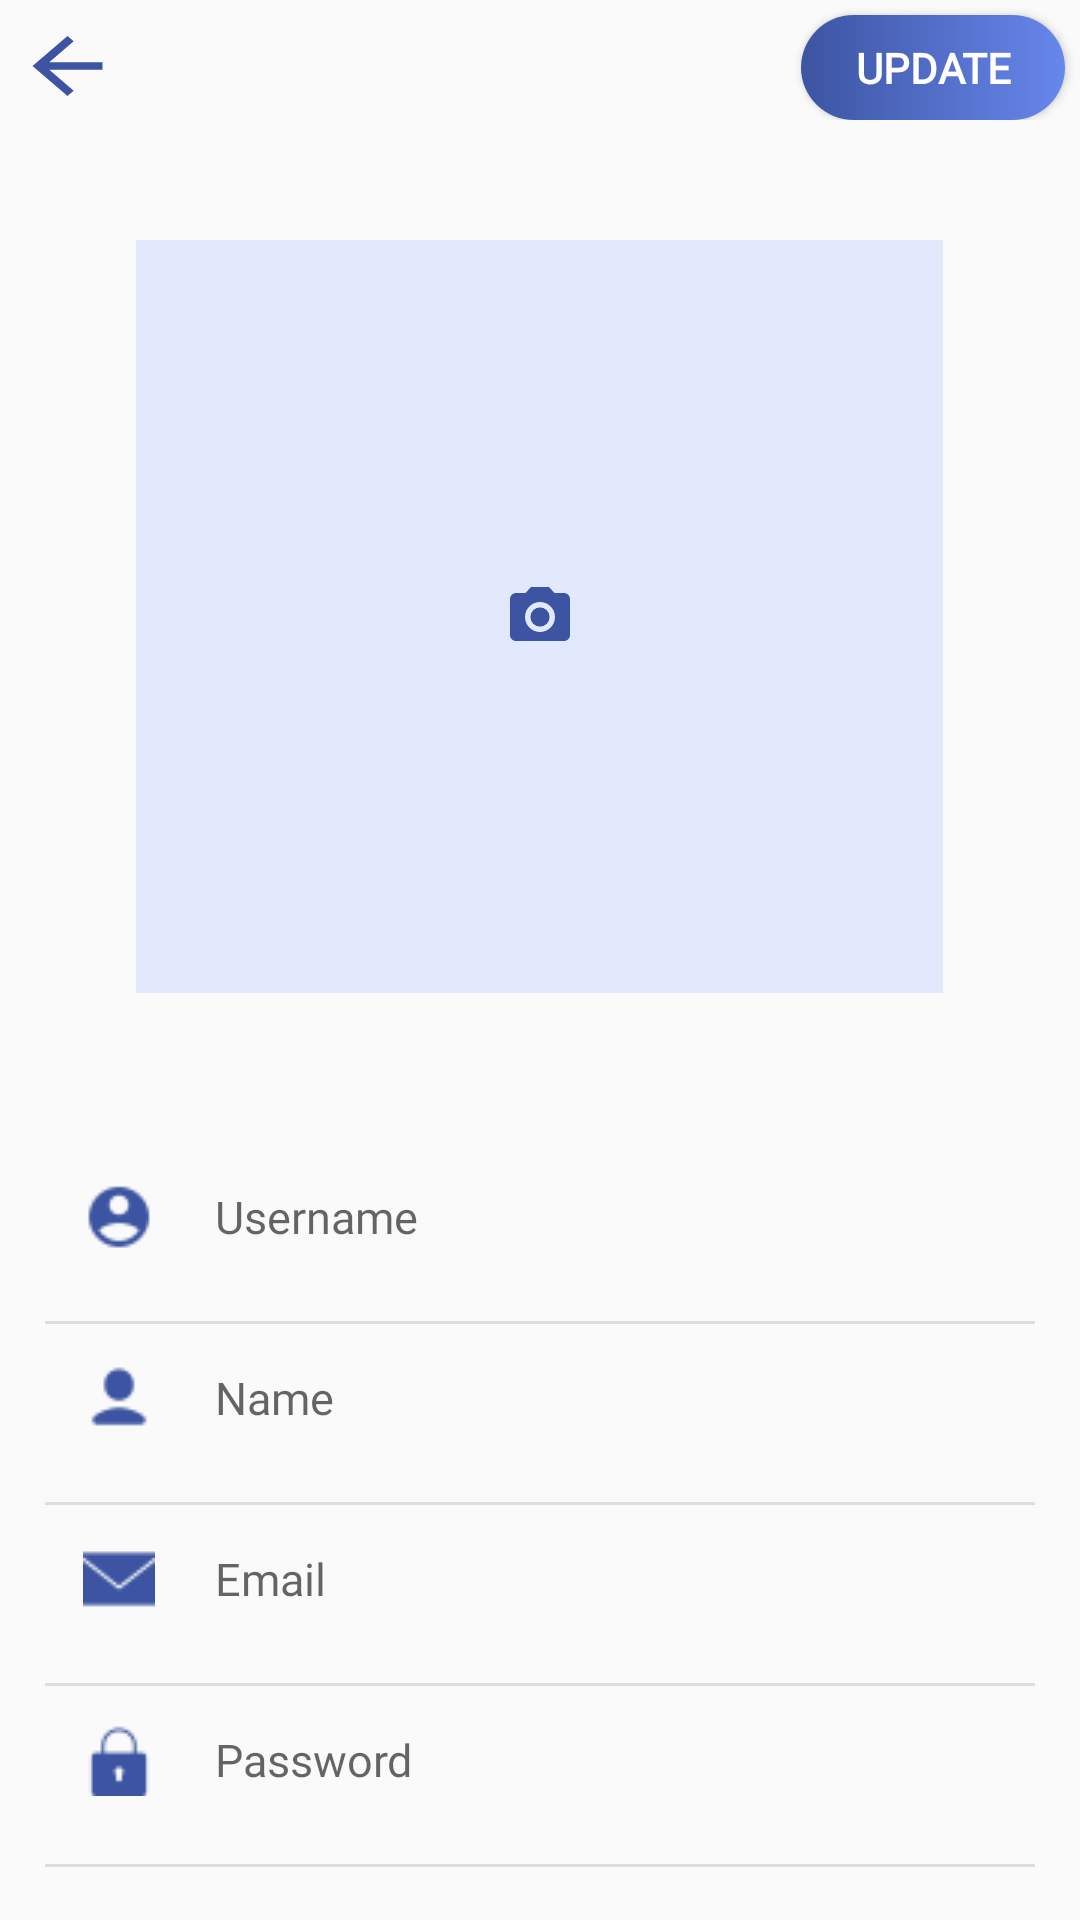

Screen size 1080px x 1920px. Icon name, then its box in pixels as [left=x1, top=y1, right=x2, bottom=y2]:
arrow back: [left=33, top=36, right=103, bottom=96]
